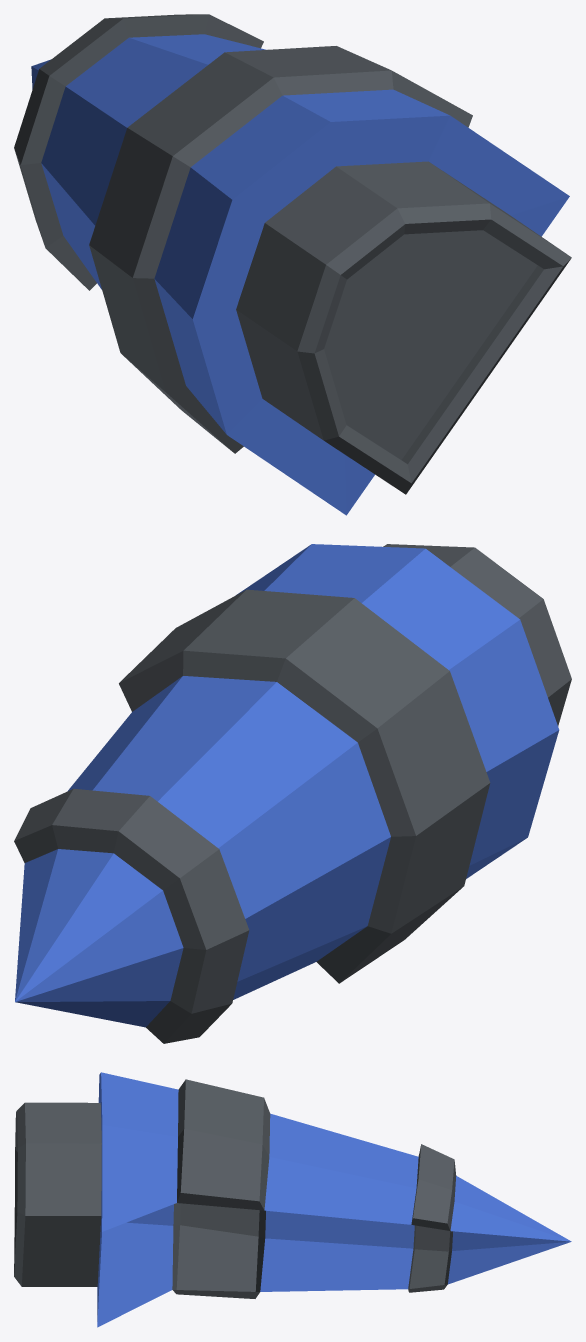
The model's file is Dropship_03_Booster_Blue.fbx.
3 renders of one model, top to bottom at view 1: azimuth 30°, elevation 25°; view 2: azimuth 150°, elevation 25°; view 3: azimuth 270°, elevation 25°, orthographic. The views are drawn at different scales.
Parts seen in each view (by area): view 1: Dropship_03_Booster_Blue; view 2: Dropship_03_Booster_Blue; view 3: Dropship_03_Booster_Blue.
Boxes of the visible parts, x1,y1,x2,y2 form: Dropship_03_Booster_Blue: (14, 14, 571, 515); Dropship_03_Booster_Blue: (14, 544, 571, 1043); Dropship_03_Booster_Blue: (14, 1072, 571, 1327).
Bounding box in the file's own units: 64.13 × 63.53 × 128.
1 material, 1 textured.
